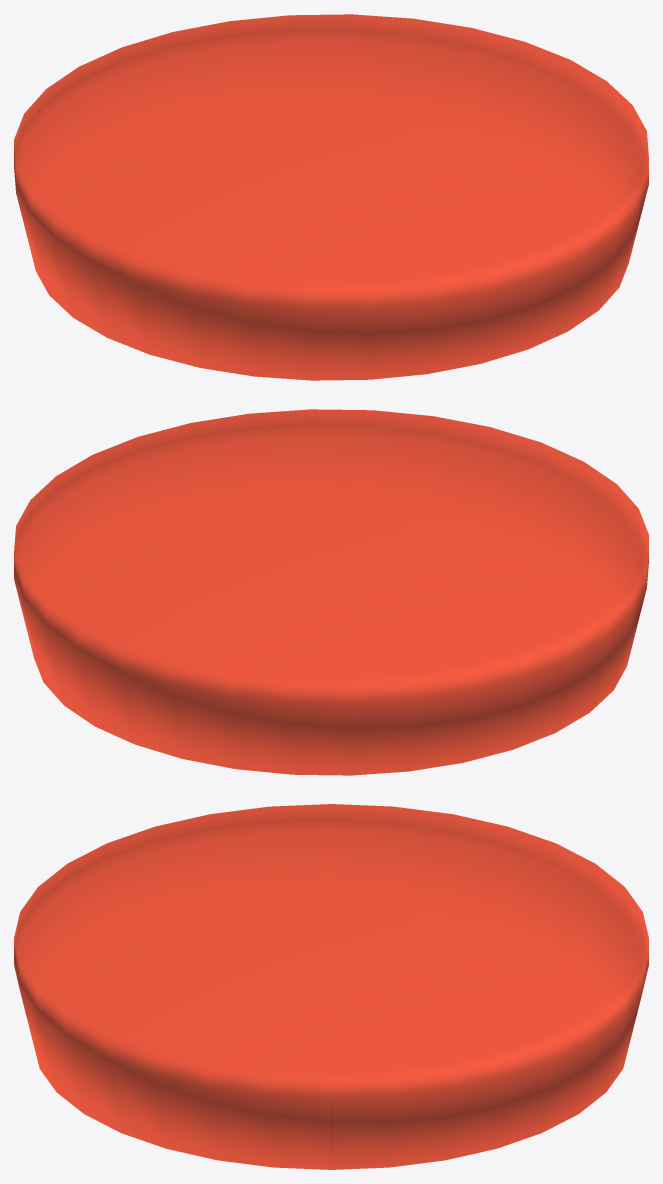
Rendered from soupedWater.fbx.
The picture shows the model from 3 angles, top to bottom: view 1: azimuth 30°, elevation 25°; view 2: azimuth 150°, elevation 25°; view 3: azimuth 270°, elevation 25°; orthographic projection.
Visible parts, largest first — view 1: soupedWater; view 2: soupedWater; view 3: soupedWater.
Boxes of the visible parts, x1,y1,x2,y2 form: soupedWater: [14, 14, 648, 380]; soupedWater: [14, 409, 648, 775]; soupedWater: [14, 804, 648, 1169].
Size of the model in its own units: 165 by 30.43 by 165.
